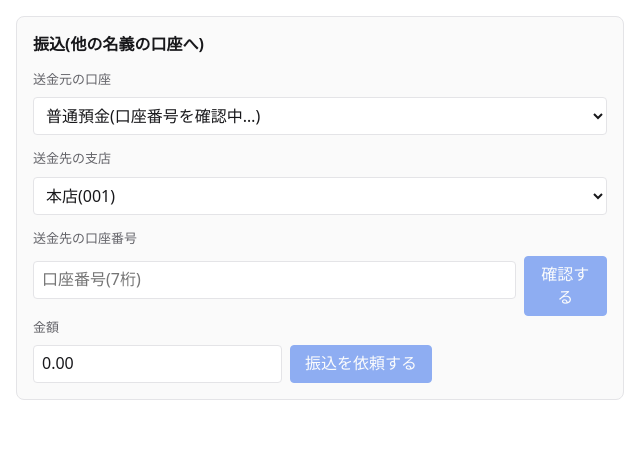
Test case: 振込(他の名義の口座へ)の宛先入力(docs/adr/0015) › 解決した口座の支店と選択した支店が一致しない場合、送信をブロックする
Select "東京支店(002)" in the dropdown labelled "送金先の支店" at {"x": 320, "y": 196}, box [33,177,607,215]
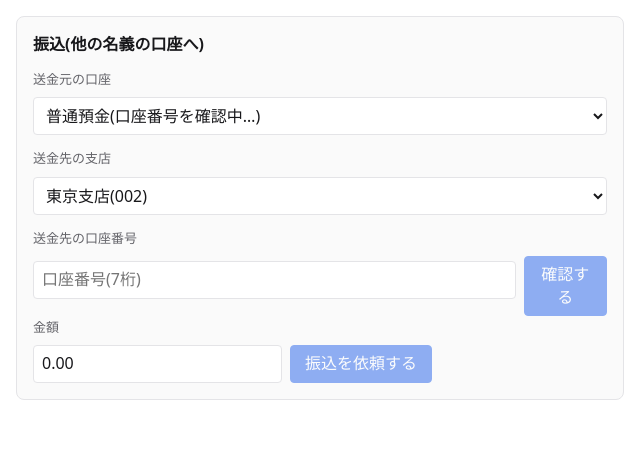
Type "1234567" into the field labelled "送金先の口座番号" at {"x": 274, "y": 280}, box [33,261,516,299]
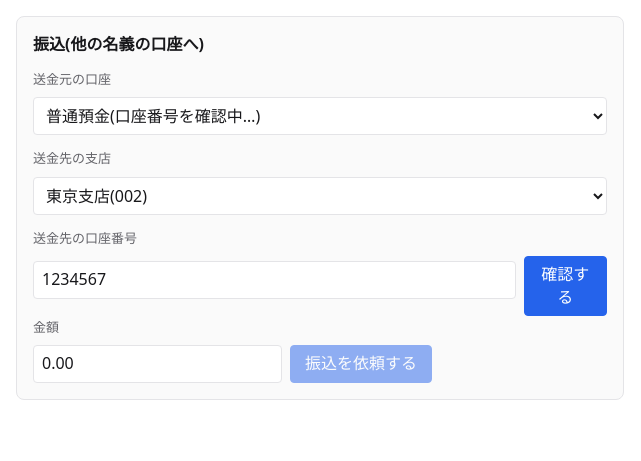
Click the button "確認する" at {"x": 565, "y": 286}, box [524,256,607,316]
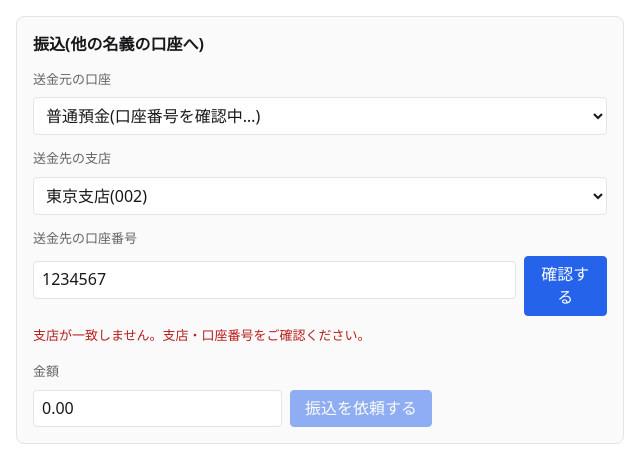
Expected: the button "振込を依頼する" is disabled, [290,390,432,427]
Now the text "支店が一致しません。支店・口座番号をご確認ください。" is shown, box [33,326,371,344]
